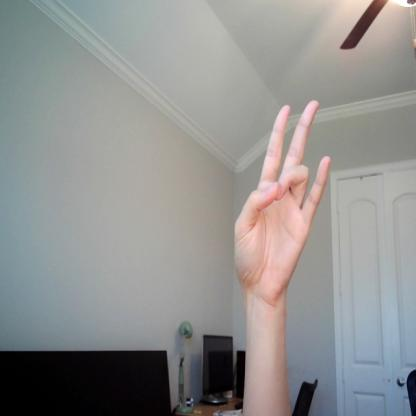seven: (228, 99, 336, 290)
